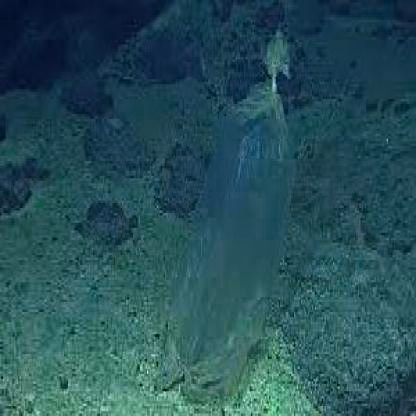pbag: (161, 20, 304, 416)
